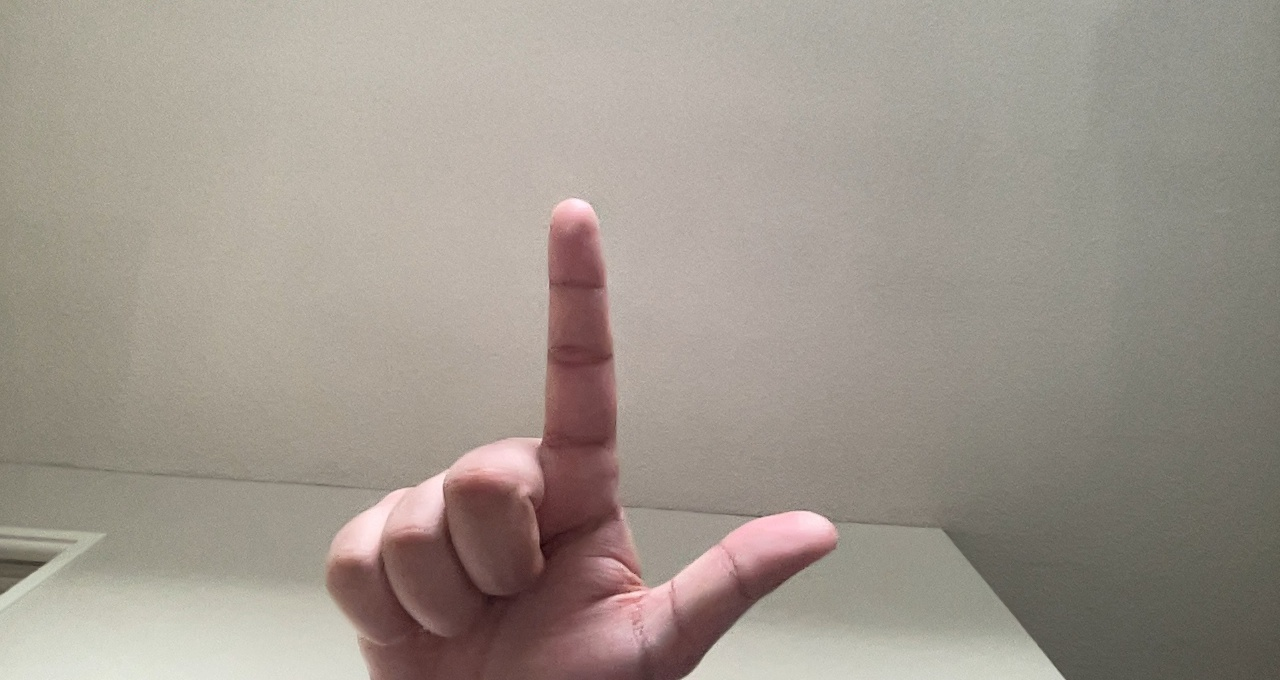L: (309, 187, 847, 665)
